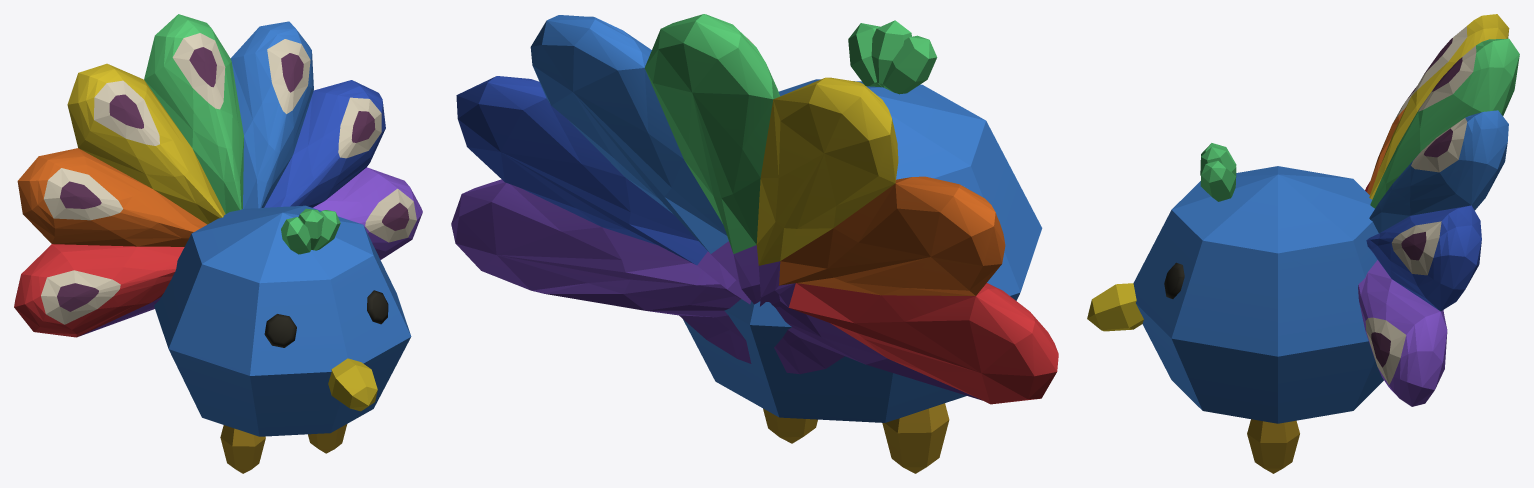
File: Prism_Peacock.glb
3 views of the same model, side by side, from view 1: azimuth 30°, elevation 25°; view 2: azimuth 150°, elevation 25°; view 3: azimuth 270°, elevation 25° (orthographic). The views are drawn at different scales.
Visible parts, largest first — view 1: Hunt_Prism_Peacock; view 2: Hunt_Prism_Peacock; view 3: Hunt_Prism_Peacock.
Boxes of the visible parts, x1,y1,x2,y2 form: Hunt_Prism_Peacock: (14, 14, 422, 473); Hunt_Prism_Peacock: (451, 14, 1058, 473); Hunt_Prism_Peacock: (1087, 14, 1519, 473).
Size of the model in its own units: 0.5889 by 0.514 by 0.4884.
